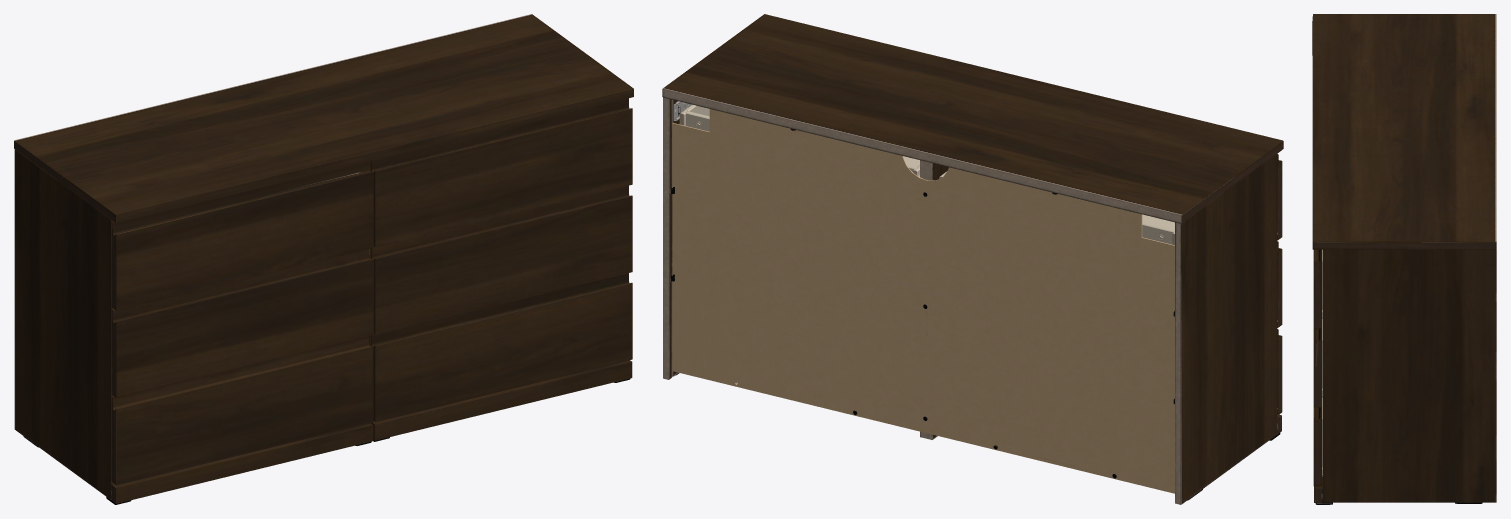
File: STORKLINTA 6-drawer dresser.glb
3 renders of one model, left to right at view 1: azimuth 30°, elevation 25°; view 2: azimuth 150°, elevation 25°; view 3: azimuth 270°, elevation 25°, orthographic. The views are drawn at different scales.
Visible parts, largest first — view 1: 50561244-STORKLINTA001; view 2: 50561244-STORKLINTA001; view 3: 50561244-STORKLINTA001.
Part boxes in pixels (x1,y1,x2,y2): 50561244-STORKLINTA001: (14, 14, 633, 504); 50561244-STORKLINTA001: (662, 14, 1283, 504); 50561244-STORKLINTA001: (1312, 14, 1496, 504).
Bounding box in the file's own units: 1.4 × 0.7528 × 0.4764.
Materials: 1 (1 with a texture image).
